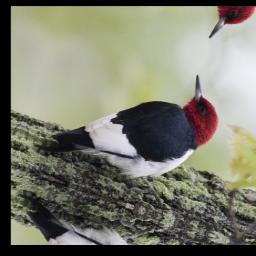Woodpecker: (32, 24, 235, 215)
